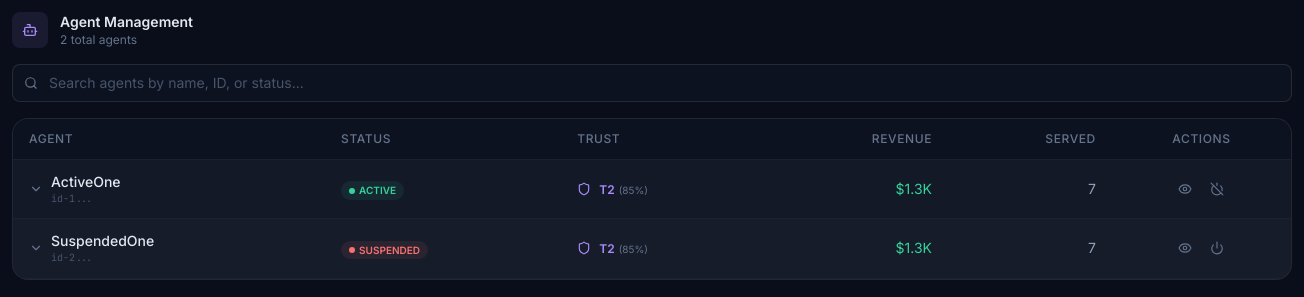
Scenario: AgentManagement › filters agents by status field
Type "suspended" into the field with placeholder "Search agents by name, ID, or status...". click: coordinates (652, 83)
box: [12,64,1292,102]
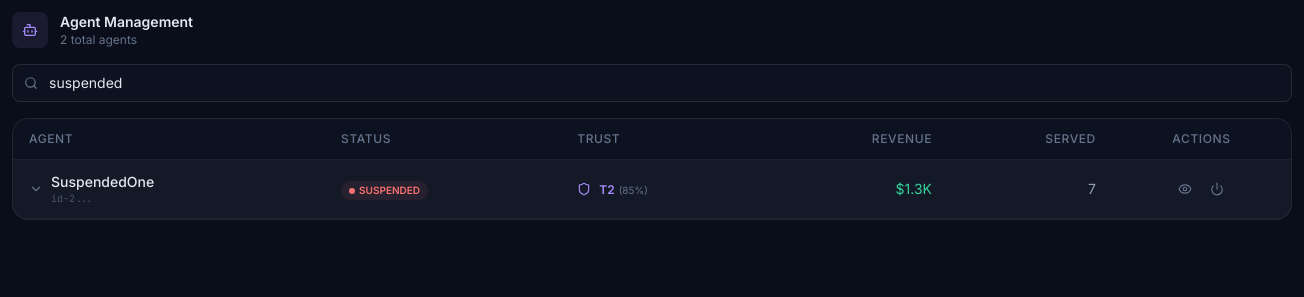
Expected: the text "SuspendedOne" is shown, [51,172,154,192]
Expected: the text "ActiveOne" is gone
